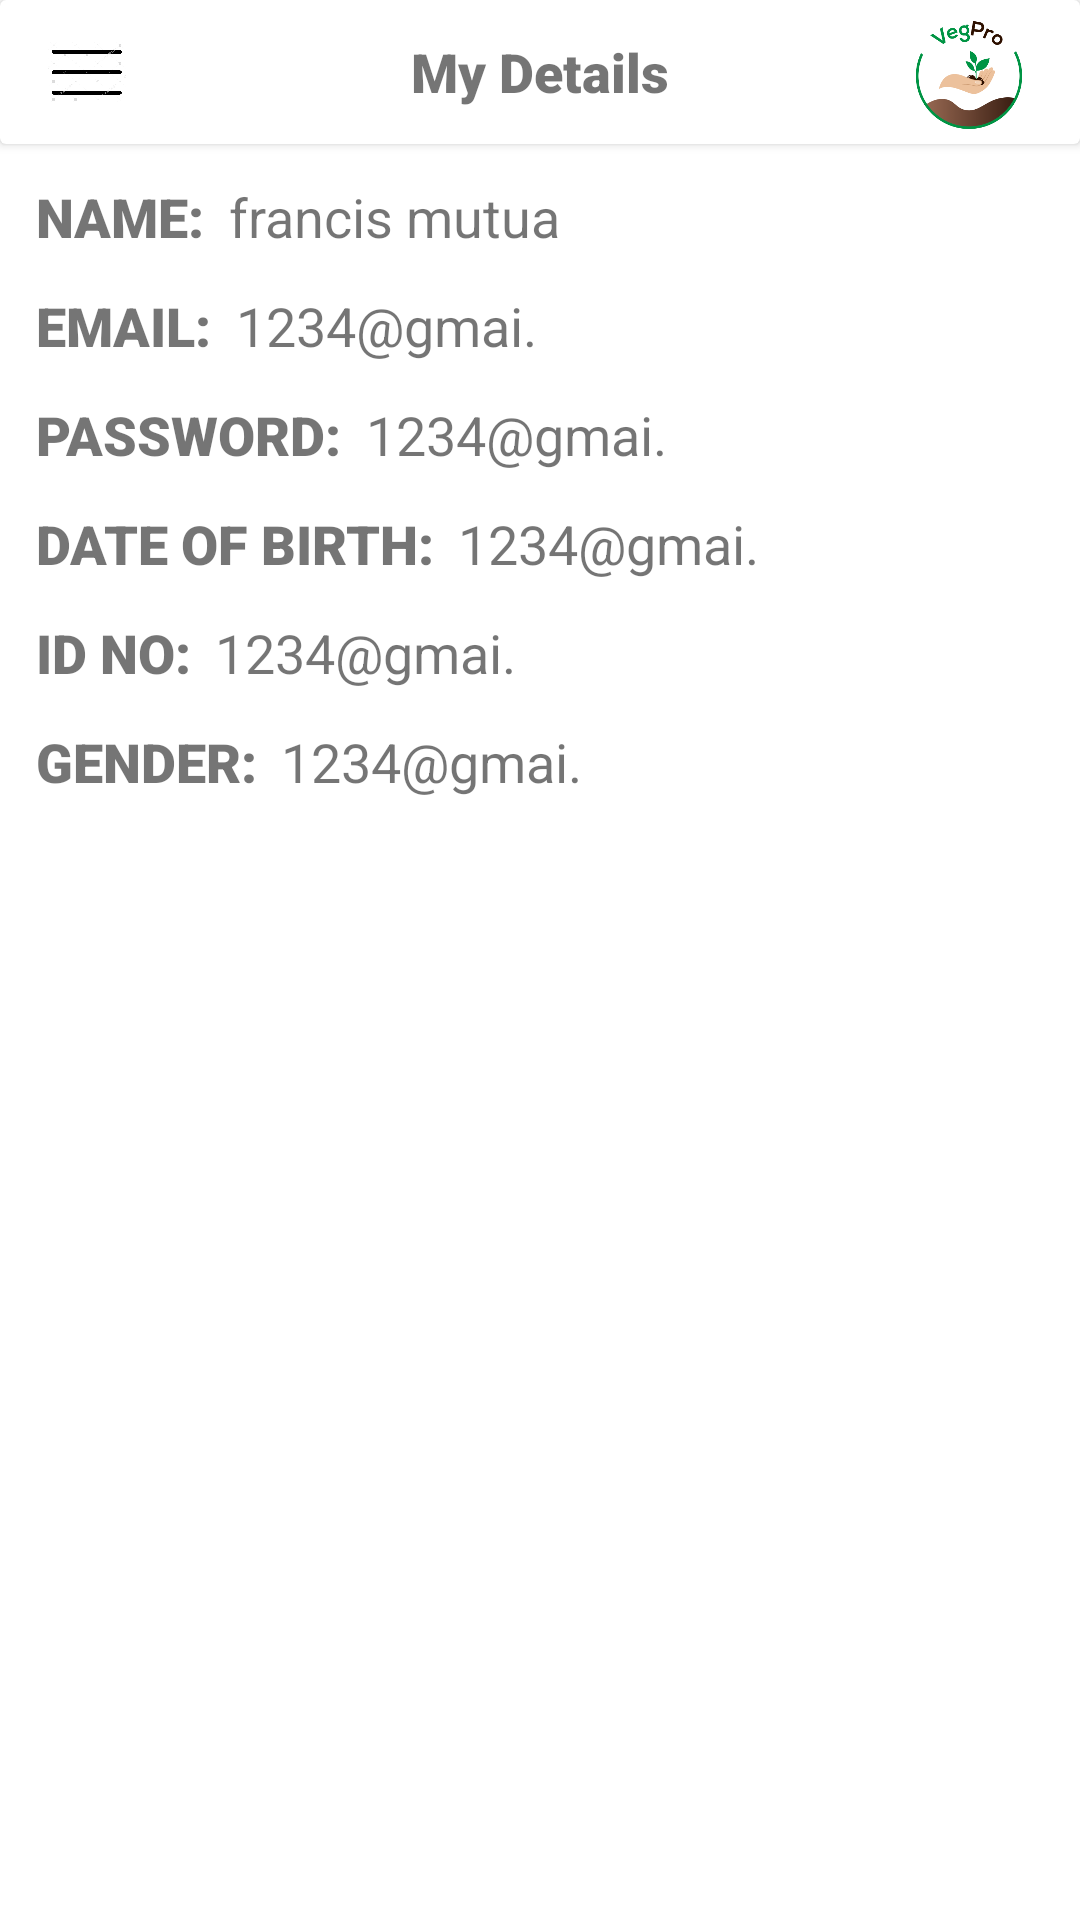

Screen size 1080w x 1920h. Icon name, then its center in pixels as (x,y):
drawer: (87,72)
